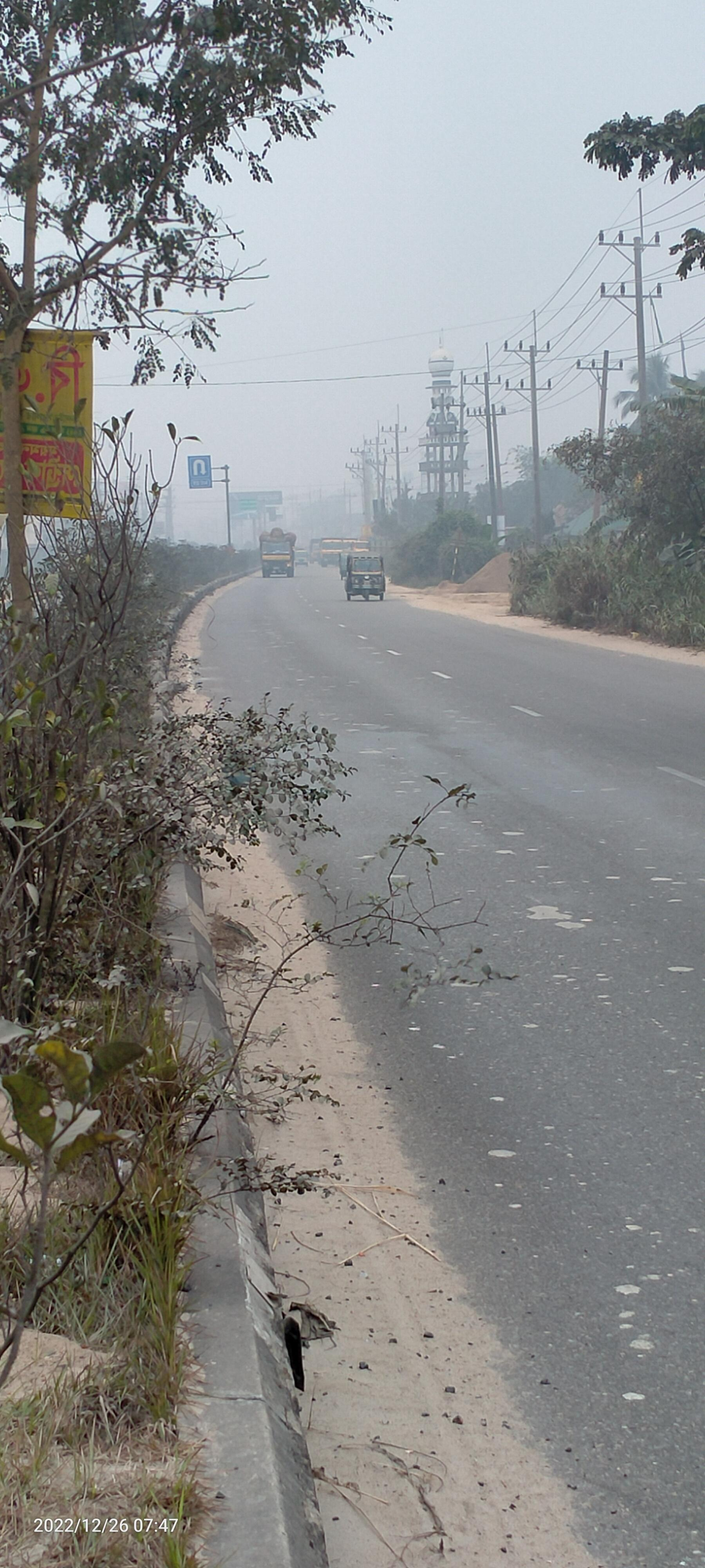Truck: (252, 523, 304, 584), (315, 531, 347, 574)
